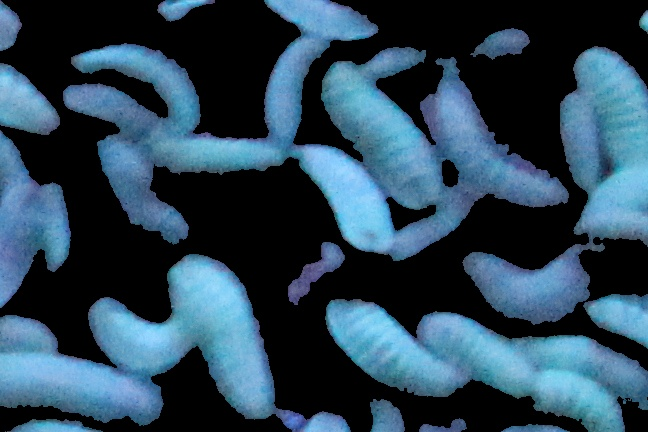larvae: (309, 65, 443, 207), (164, 254, 279, 419), (426, 71, 561, 205), (322, 297, 450, 395), (73, 38, 201, 127), (1, 352, 165, 420), (455, 248, 603, 320), (84, 139, 185, 239), (300, 136, 386, 251), (417, 304, 529, 391), (517, 326, 648, 399), (570, 48, 648, 170), (87, 296, 199, 372), (266, 37, 327, 141), (379, 200, 481, 260), (245, 3, 407, 40), (162, 133, 286, 180), (530, 369, 620, 432), (1, 177, 38, 308), (1, 63, 64, 137), (33, 175, 76, 274), (65, 85, 159, 130), (560, 89, 604, 185), (465, 25, 544, 65), (1, 308, 63, 356), (572, 201, 648, 240), (356, 42, 424, 81)
